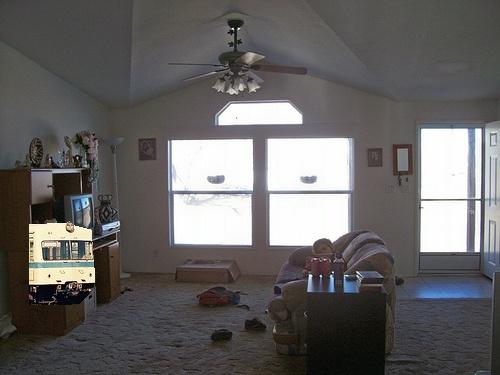tampered: (30, 222, 95, 305)
